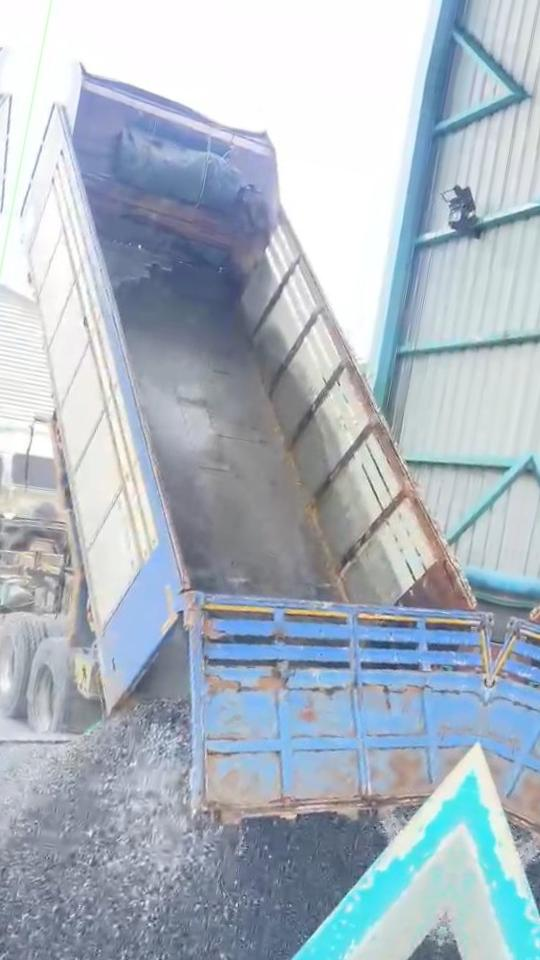gravel: (0, 702, 384, 960), (338, 943, 437, 960)
